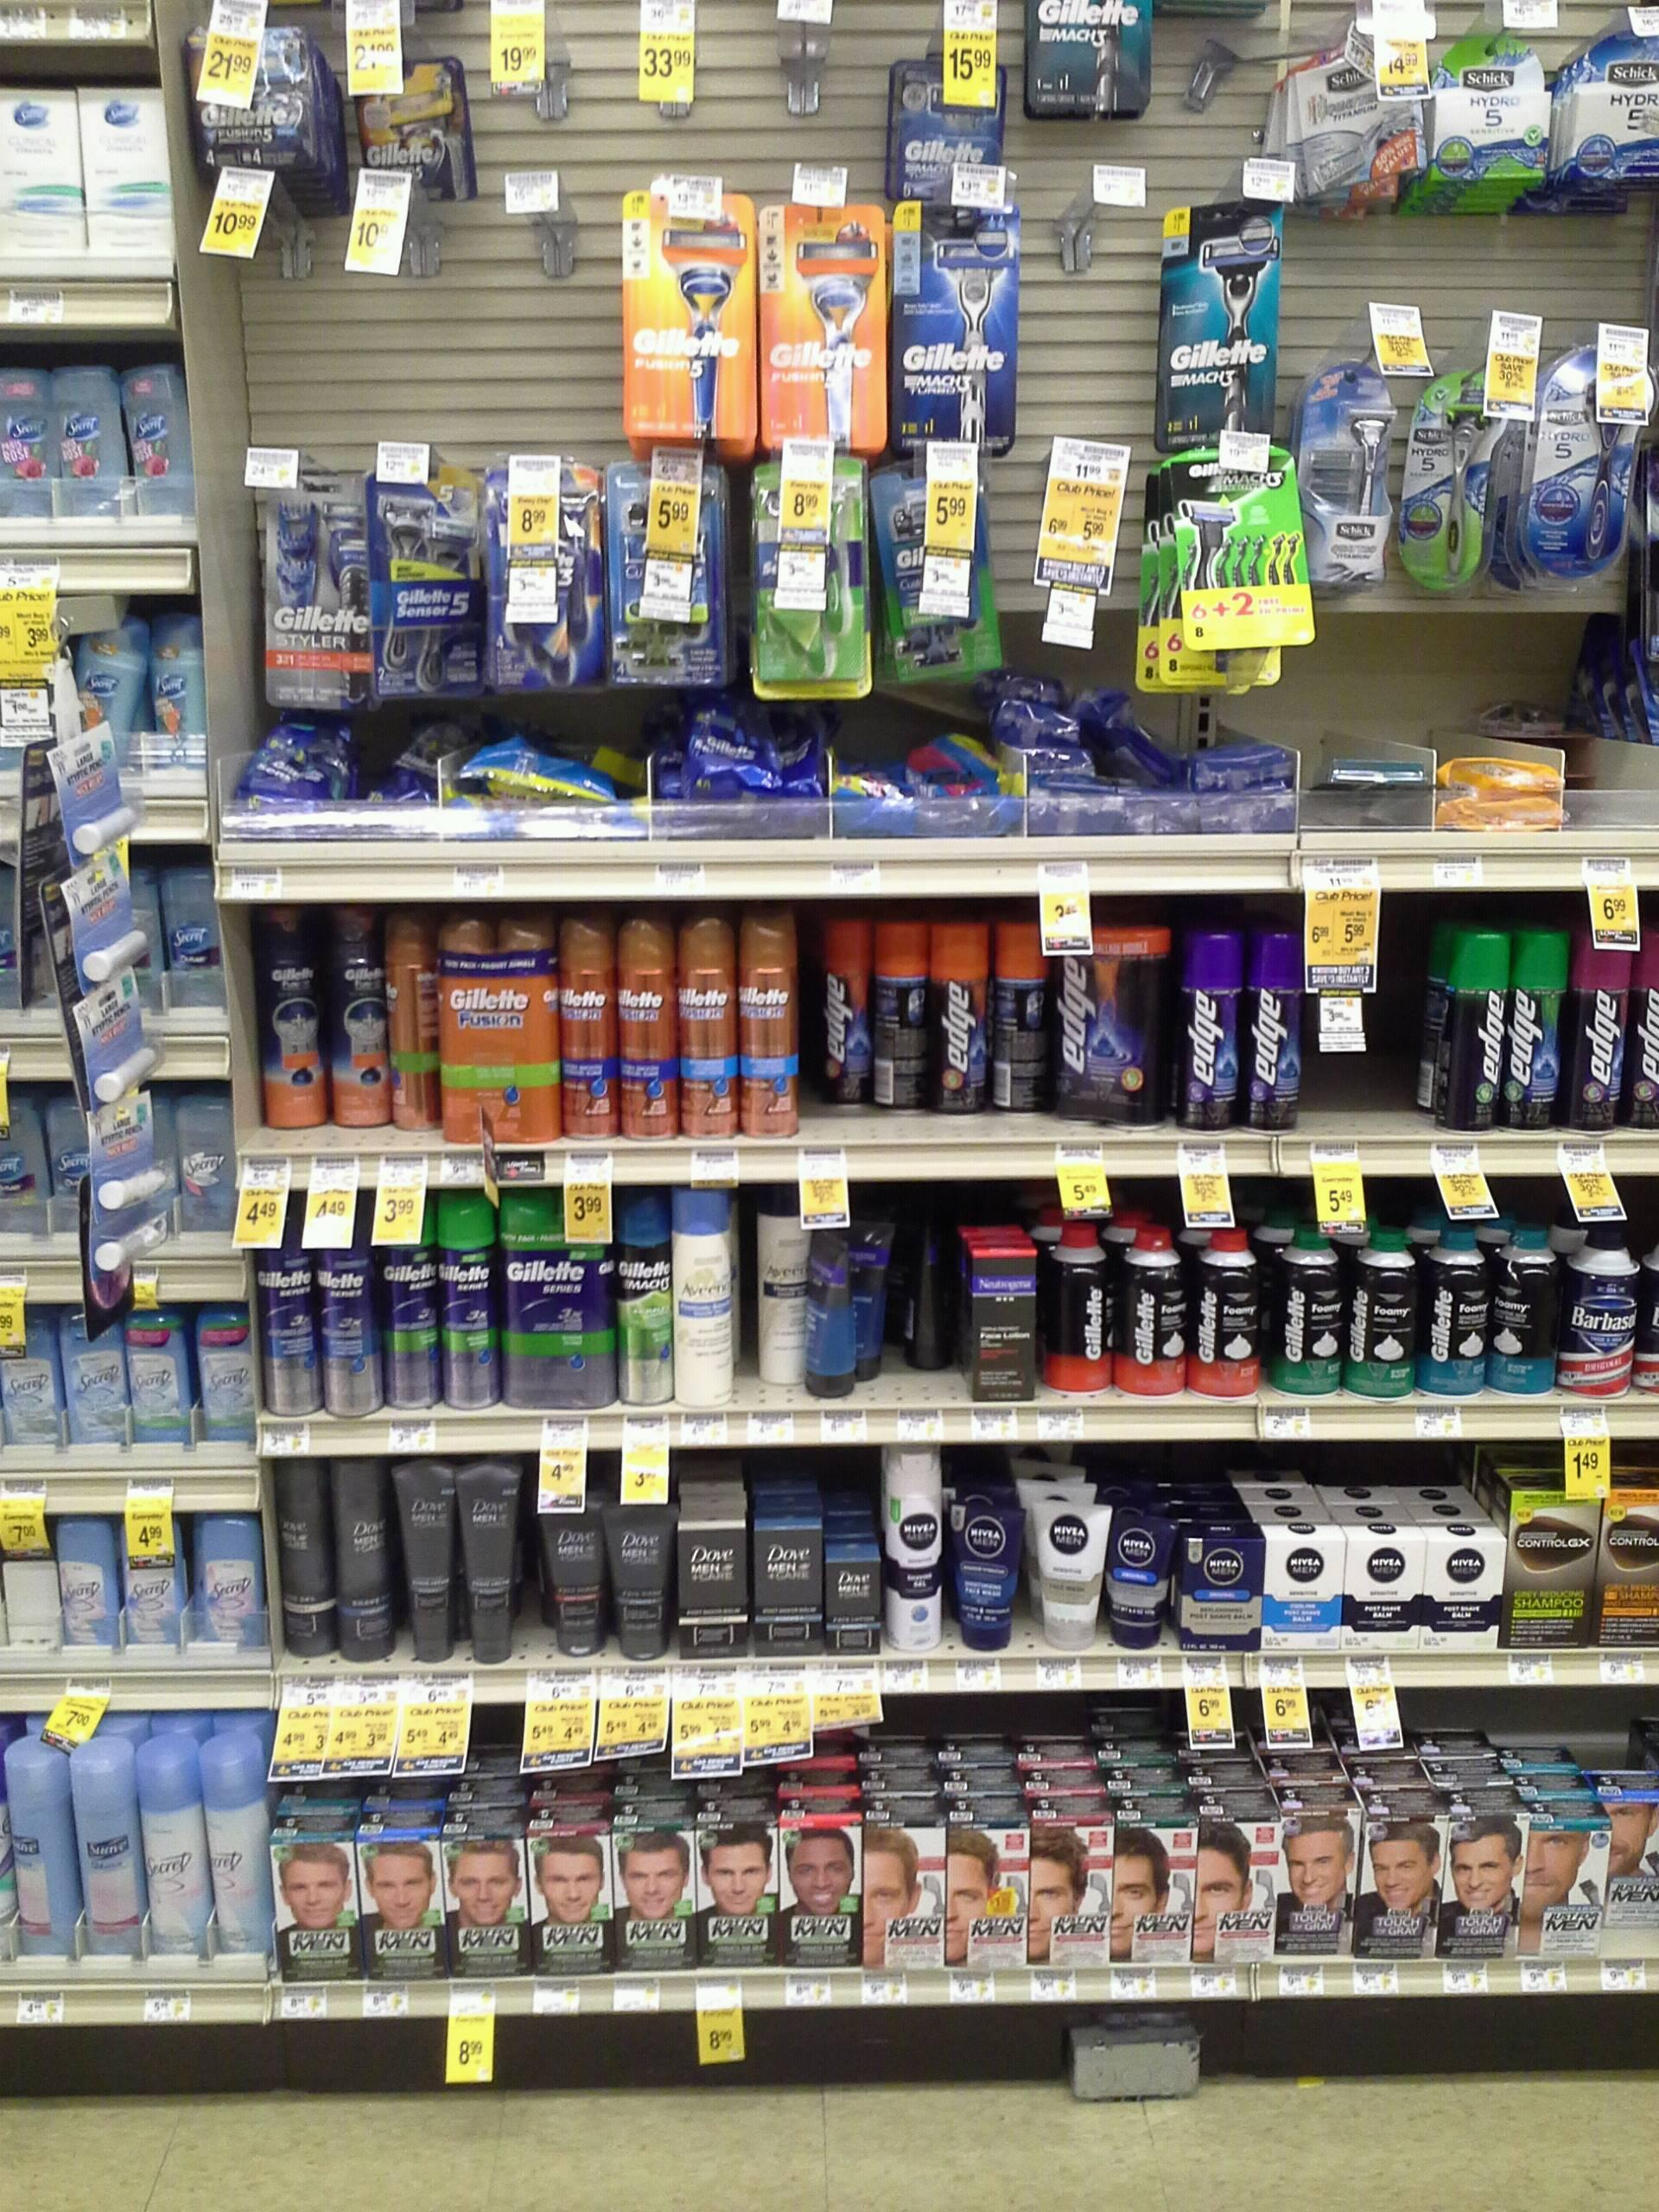empty: (207, 216, 587, 421), (484, 61, 857, 160), (1046, 232, 1138, 425), (1337, 951, 1396, 1130)
misalignment: (805, 1214, 958, 1385), (1080, 686, 1290, 784), (1316, 747, 1434, 819)
